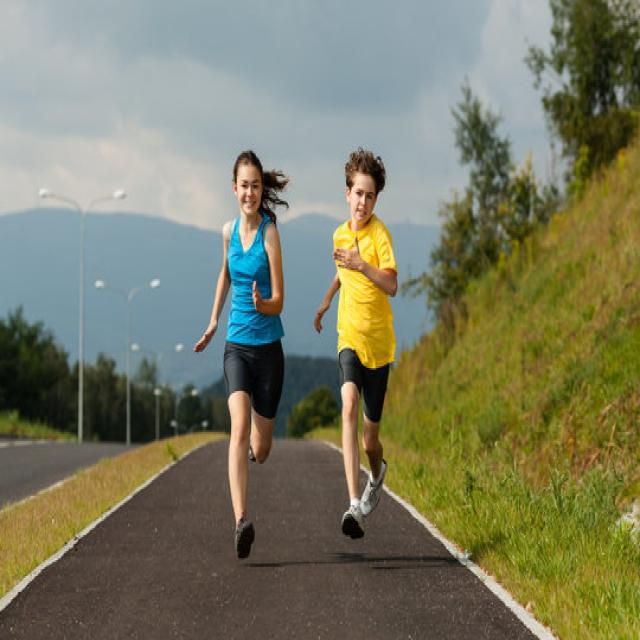Person: (194, 150, 289, 562), (314, 150, 398, 542)
